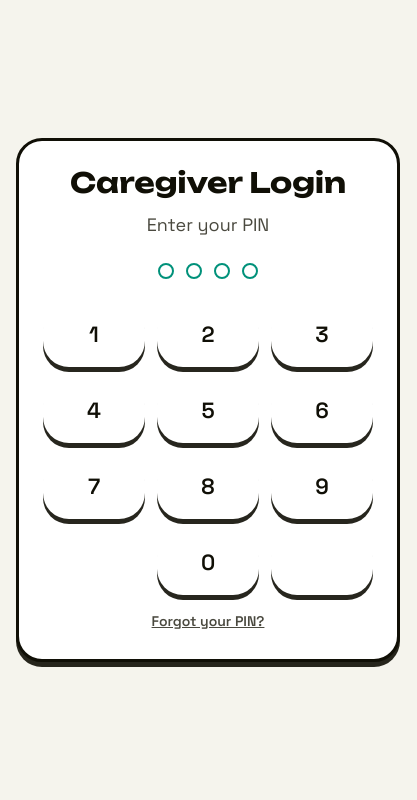
CaregiverLogin forgot-PIN reset › shows a clear error instead of silently doing nothing when no caregiver exists at all
Click the button "Forgot your PIN?". click: (208, 621)
box: [152,611,264,631]
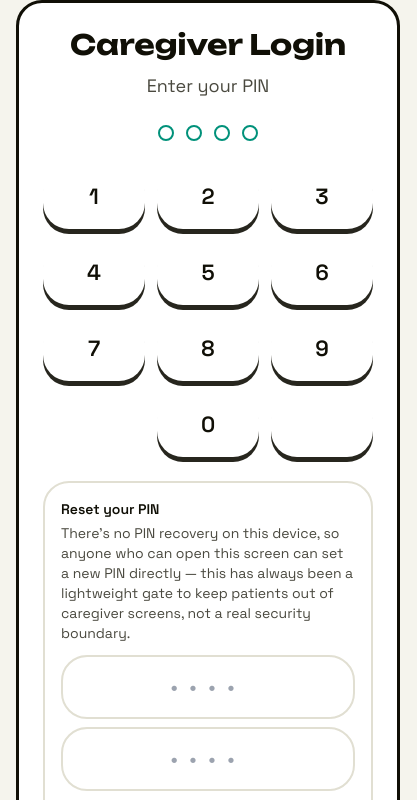
Type "9999" into the 1st password field with placeholder "••••". click: (208, 687)
box: [61,655,355,719]
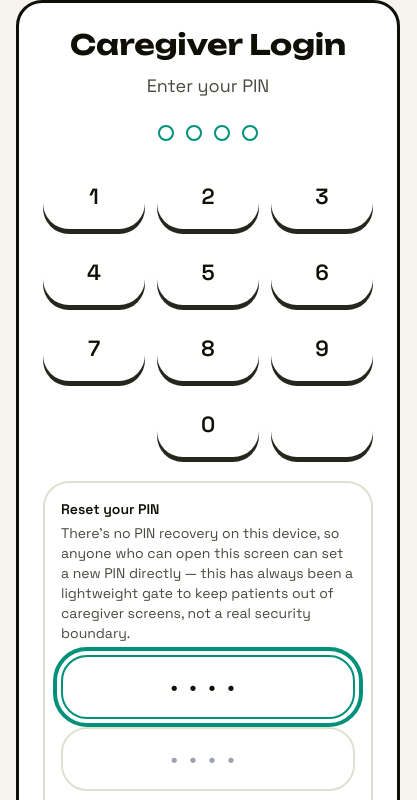
Type "9999" into the password field with placeholder "••••". click: (208, 759)
box: [61,727,355,791]
(page scrolled)
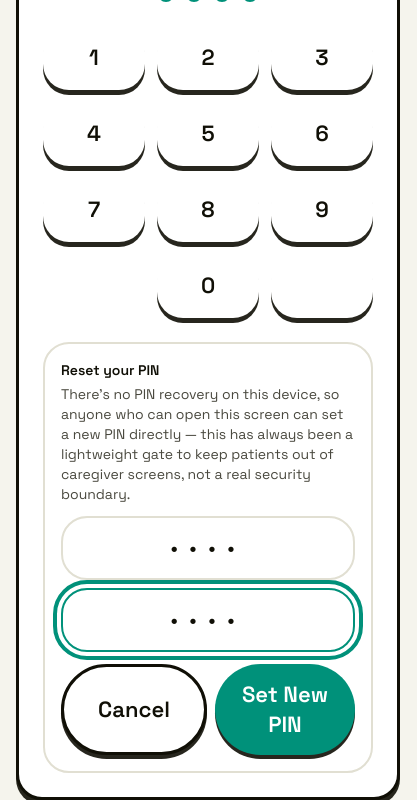
Click the button "Set New PIN". click: (285, 710)
box: [215,664,355,756]
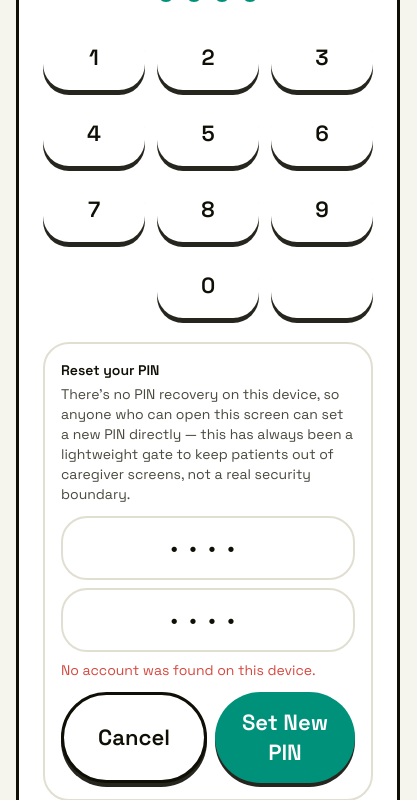
expect the text "No account was found on this device." is shown: met, box [61,660,355,680]
